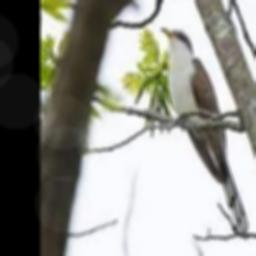Cuckoo: (159, 27, 248, 233)
